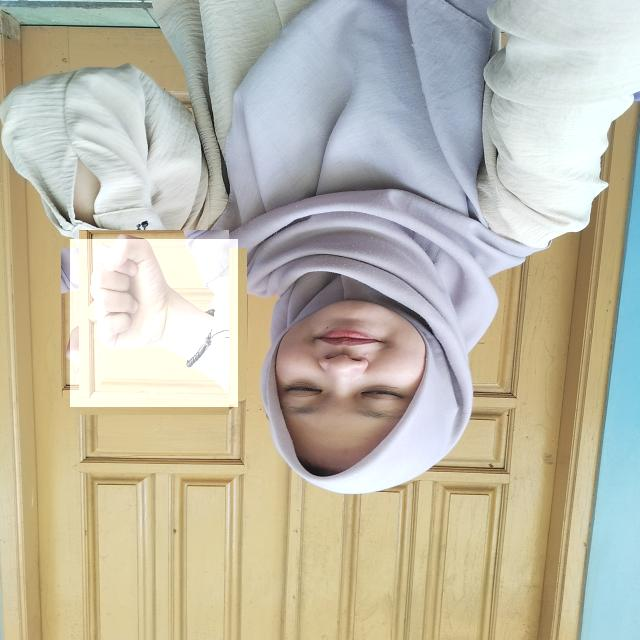baik: (70, 239, 238, 407)
